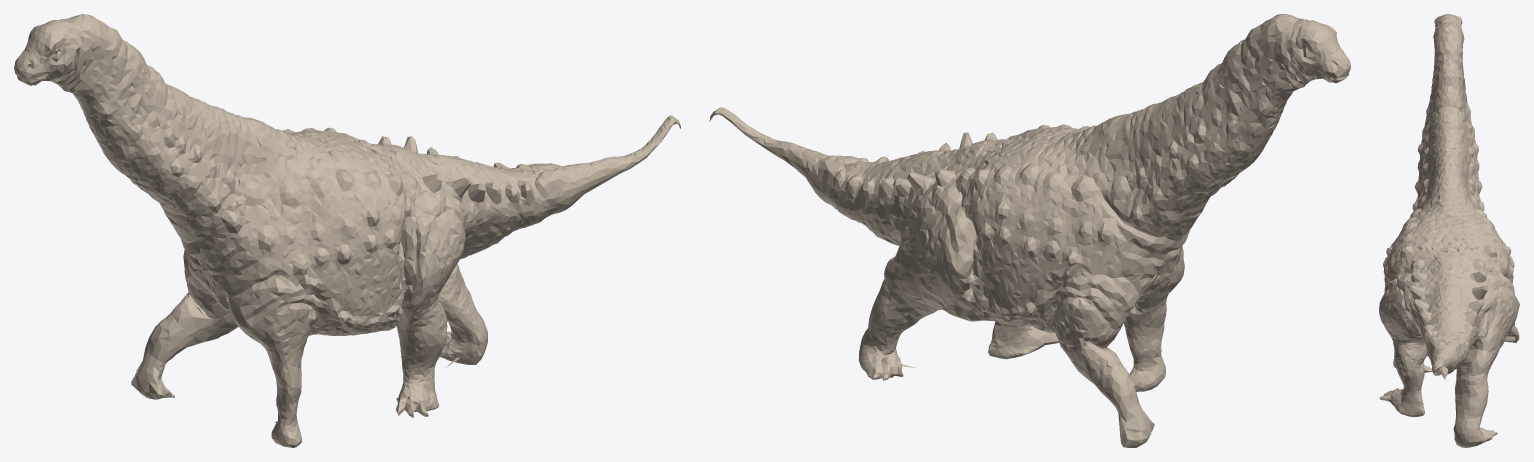
The model's file is magyarosaurus.glb.
The picture shows the model from 3 angles, left to right: view 1: azimuth 30°, elevation 25°; view 2: azimuth 150°, elevation 25°; view 3: azimuth 270°, elevation 25°; orthographic projection. The views are drawn at different scales.
Parts seen in each view (by area): view 1: magyarosaurus; view 2: magyarosaurus; view 3: magyarosaurus.
Part boxes in pixels (bbox=[...]): magyarosaurus: bbox=[14, 14, 680, 447]; magyarosaurus: bbox=[709, 14, 1350, 447]; magyarosaurus: bbox=[1379, 14, 1519, 447].
Bounding box in the file's own units: 76.02 × 49.84 × 21.54.
